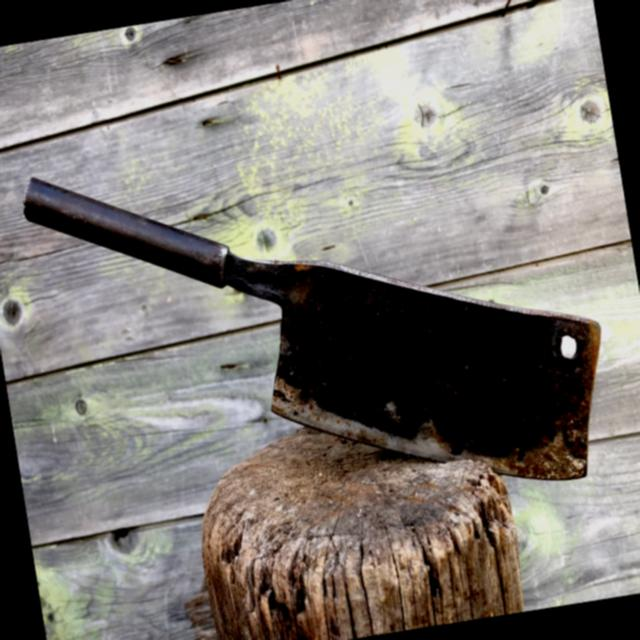cleaver: (23, 94, 612, 562)
